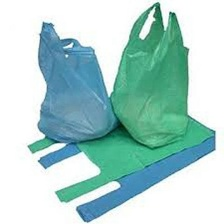plastic_bag: (20, 110, 221, 222), (20, 94, 216, 204), (106, 0, 196, 150), (28, 19, 122, 147)
